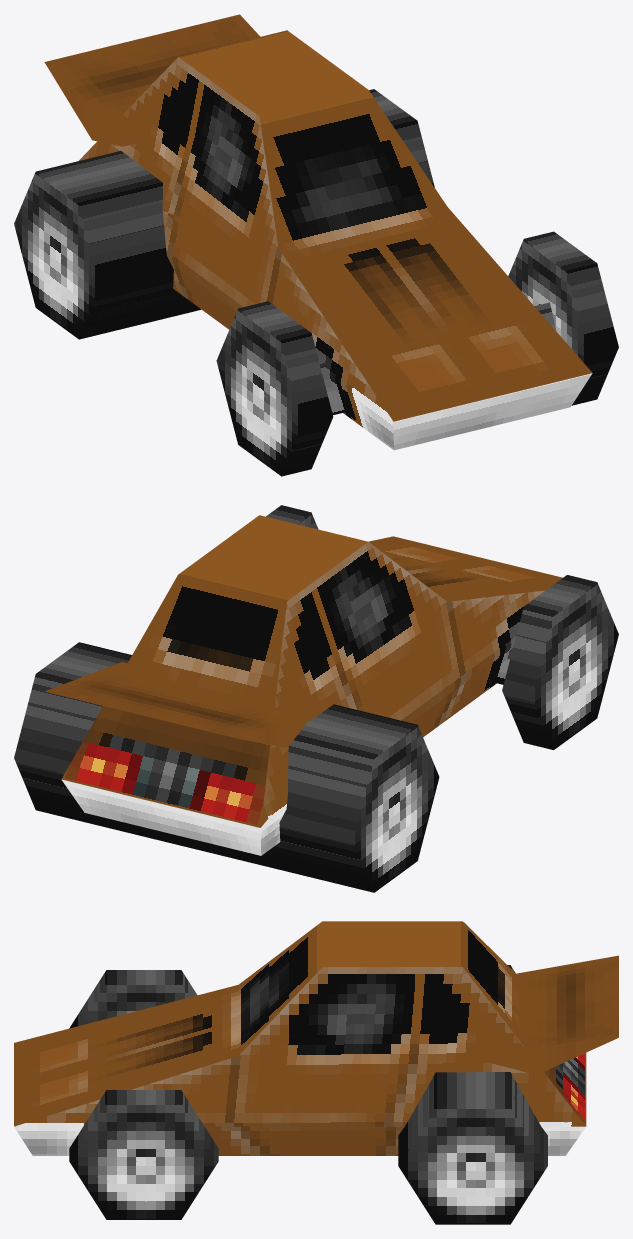
File: dunebuggyprop.glb
The picture shows the model from 3 angles, top to bottom: view 1: azimuth 30°, elevation 25°; view 2: azimuth 150°, elevation 25°; view 3: azimuth 270°, elevation 25°; orthographic projection. The views are drawn at different scales.
Parts seen in each view (by area): view 1: dunebuggy; view 2: dunebuggy; view 3: dunebuggy.
Boxes of the visible parts, box(x1,y1,x2,y2) form: dunebuggy: box(14, 14, 618, 476); dunebuggy: box(14, 505, 618, 892); dunebuggy: box(14, 921, 618, 1224).
Bounding box in the file's own units: 2.27 × 1.56 × 4.08.
1 material, 1 textured.
